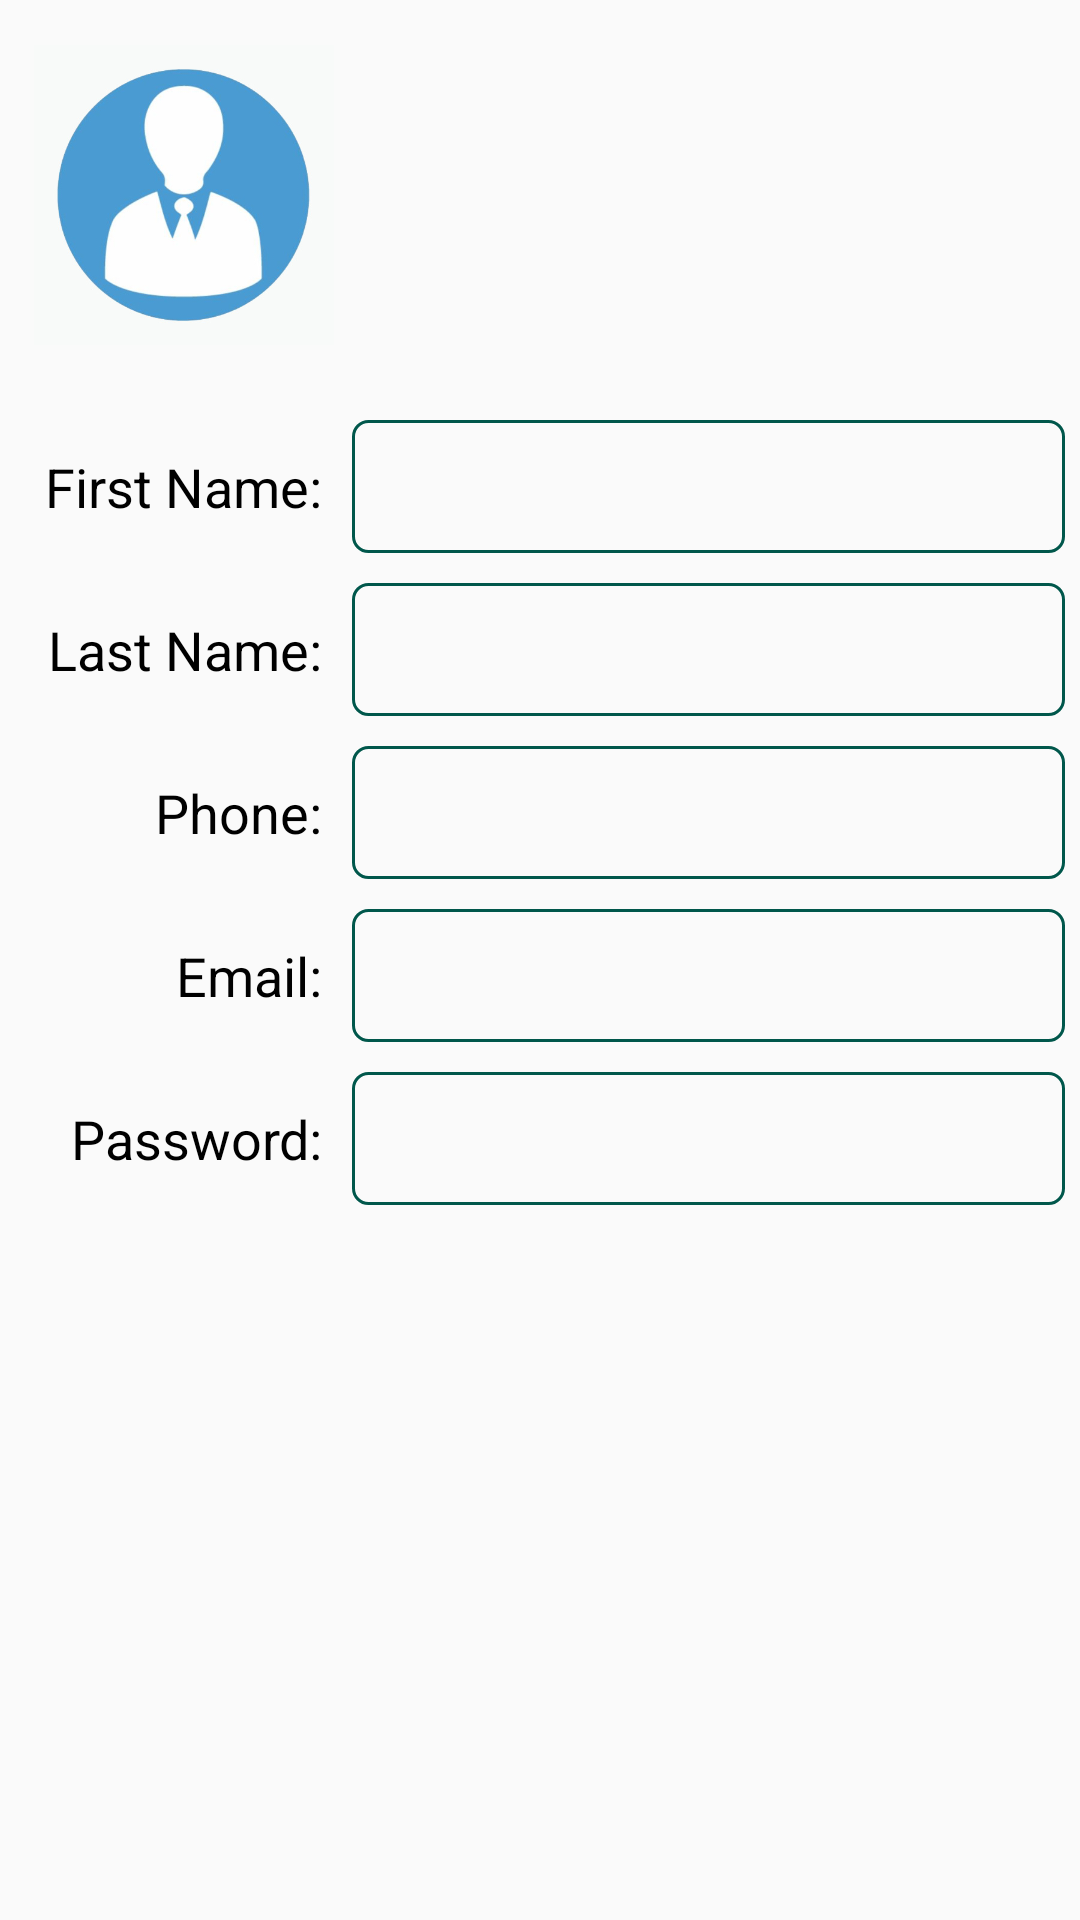

Screen size 1080 x 1920. Icon name, then its center in pixels as point (x, y):
My Account: point (183, 195)
